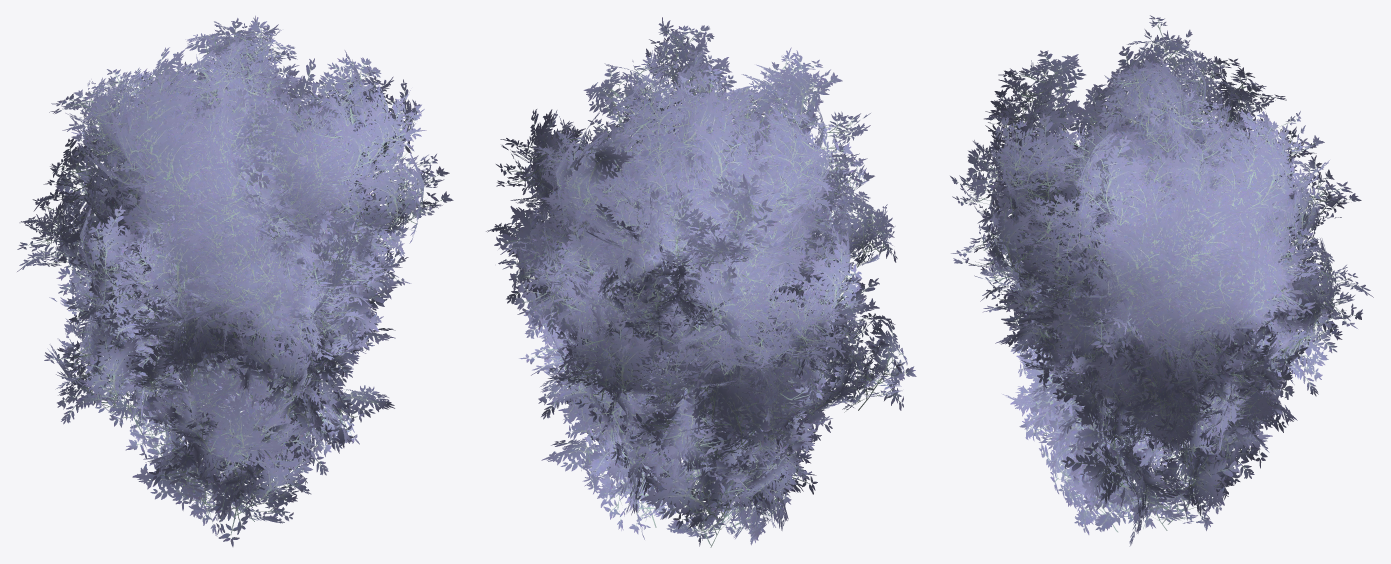
3 views of the same model, side by side, from view 1: azimuth 30°, elevation 25°; view 2: azimuth 150°, elevation 25°; view 3: azimuth 270°, elevation 25° (orthographic).
Parts seen in each view (by area): view 1: SM_FH_Ash_Canopy_02_LOD0; view 2: SM_FH_Ash_Canopy_02_LOD0; view 3: SM_FH_Ash_Canopy_02_LOD0.
Part boxes in pixels (x1,y1,x2,y2): SM_FH_Ash_Canopy_02_LOD0: (17,15,453,546); SM_FH_Ash_Canopy_02_LOD0: (486,17,916,547); SM_FH_Ash_Canopy_02_LOD0: (950,15,1373,546).
Size of the model in its own units: 9.24 by 11.05 by 9.14.
Materials: 1 (1 with a texture image).
